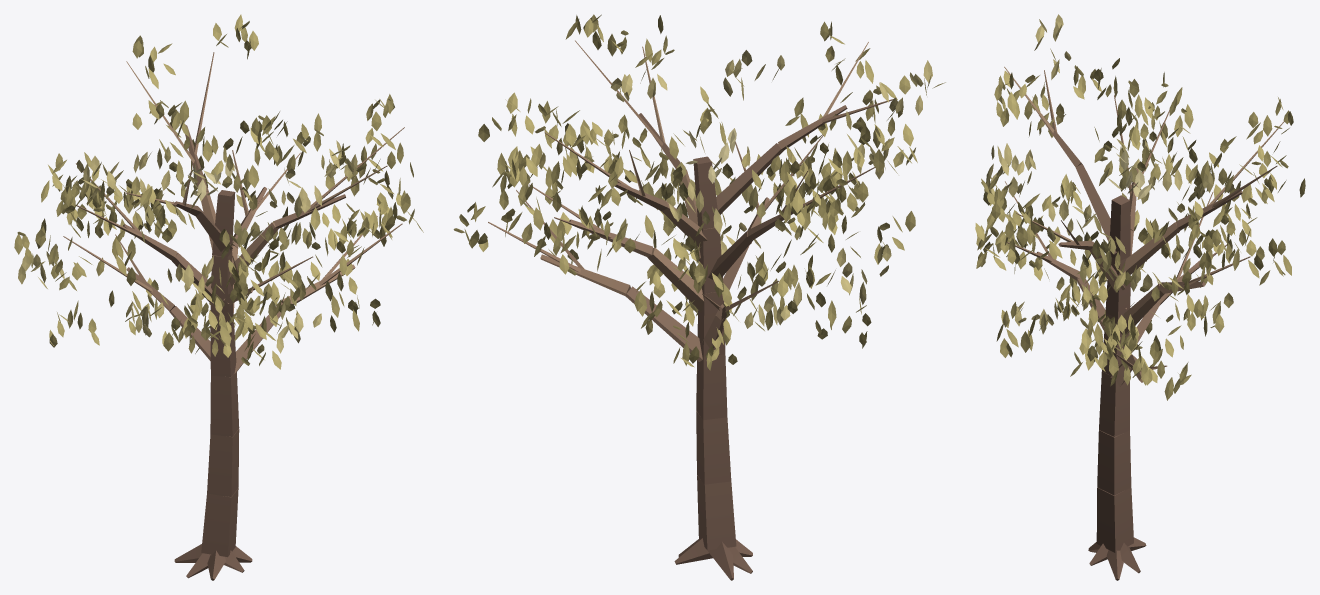
Rendered from tree_3d_05_yellow.glb.
3 renders of one model, left to right at view 1: azimuth 30°, elevation 25°; view 2: azimuth 150°, elevation 25°; view 3: azimuth 270°, elevation 25°, orthographic. The views are drawn at different scales.
Parts seen in each view (by area): view 1: tree_3d_05_yellow_foliage, tree_3d_05_yellow_wood; view 2: tree_3d_05_yellow_foliage, tree_3d_05_yellow_wood; view 3: tree_3d_05_yellow_foliage, tree_3d_05_yellow_wood.
Boxes of the visible parts, x1=… form: tree_3d_05_yellow_foliage: x1=14, y1=14, x2=423, y2=369; tree_3d_05_yellow_wood: x1=63, y1=52, x2=404, y2=580; tree_3d_05_yellow_foliage: x1=453, y1=14, x2=945, y2=370; tree_3d_05_yellow_wood: x1=488, y1=40, x2=896, y2=580; tree_3d_05_yellow_foliage: x1=975, y1=14, x2=1305, y2=400; tree_3d_05_yellow_wood: x1=1004, y1=66, x2=1284, y2=580.
Bounding box in the file's own units: 12.5 × 14.5 × 9.2.
